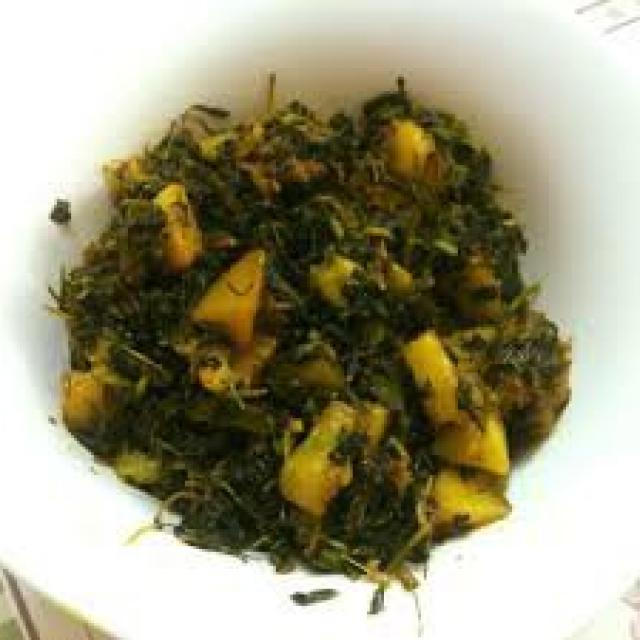Aloo Methi: (51, 78, 570, 578)
